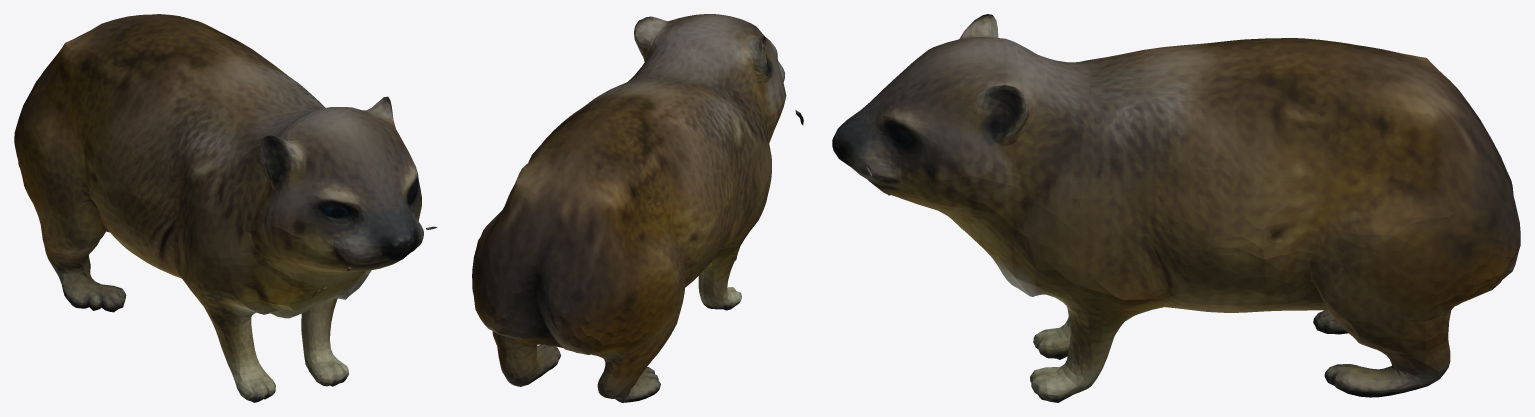
The model's file is Hirax.glb.
3 renders of one model, left to right at view 1: azimuth 30°, elevation 25°; view 2: azimuth 150°, elevation 25°; view 3: azimuth 270°, elevation 25°, orthographic. The views are drawn at different scales.
Parts seen in each view (by area): view 1: world; view 2: world; view 3: world.
Boxes of the visible parts, box(x1,y1,x2,y2) form: world: box(14, 14, 437, 402); world: box(472, 14, 803, 402); world: box(832, 14, 1520, 402).
Size of the model in its own units: 0.4143 by 0.5394 by 0.9985.
1 material, 1 textured.
